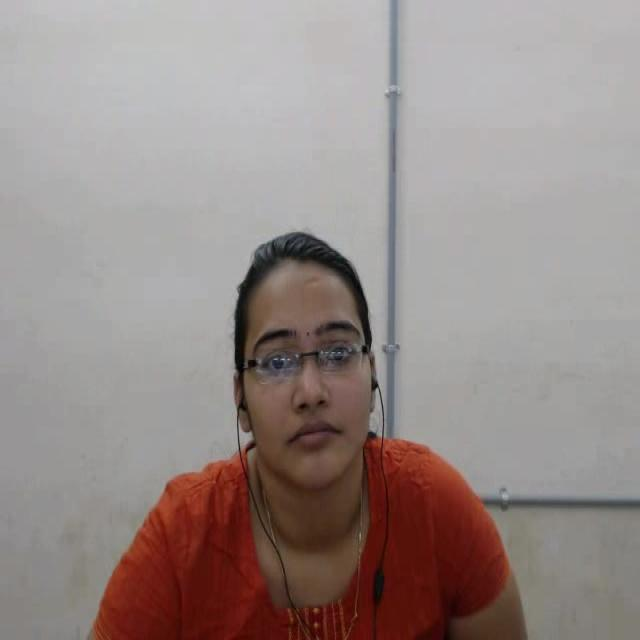Engaged: (197, 215, 416, 522)
